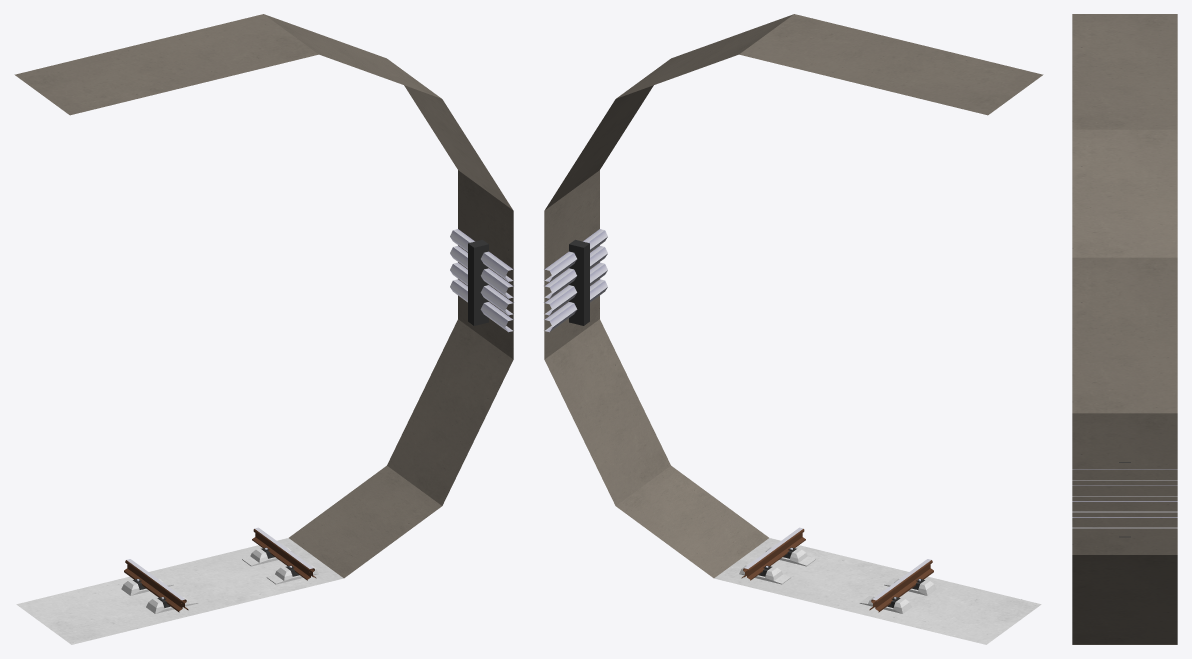
Rendered from msd_rail_tunnel_side.obj.
3 views of the same model, side by side, from view 1: azimuth 30°, elevation 25°; view 2: azimuth 150°, elevation 25°; view 3: azimuth 270°, elevation 25° (orthographic). The views are drawn at different scales.
Parts seen in each view (by area): view 1: tube, cuboid, cylinder; view 2: tube, cuboid, cylinder; view 3: tube, cylinder.
Boxes of the visible parts, left/top/right/bottom form: tube: left=14, top=14, right=513, bottom=644; cuboid: left=121, top=239, right=488, bottom=613; cylinder: left=137, top=229, right=514, bottom=599; tube: left=544, top=14, right=1043, bottom=644; cuboid: left=569, top=239, right=936, bottom=613; cylinder: left=543, top=229, right=920, bottom=599; tube: left=1072, top=14, right=1177, bottom=644; cylinder: left=1072, top=469, right=1177, bottom=528.
Bounding box in the file's own units: 5.21 × 5.93 × 1.12.
Materials: 6 (5 with a texture image).
